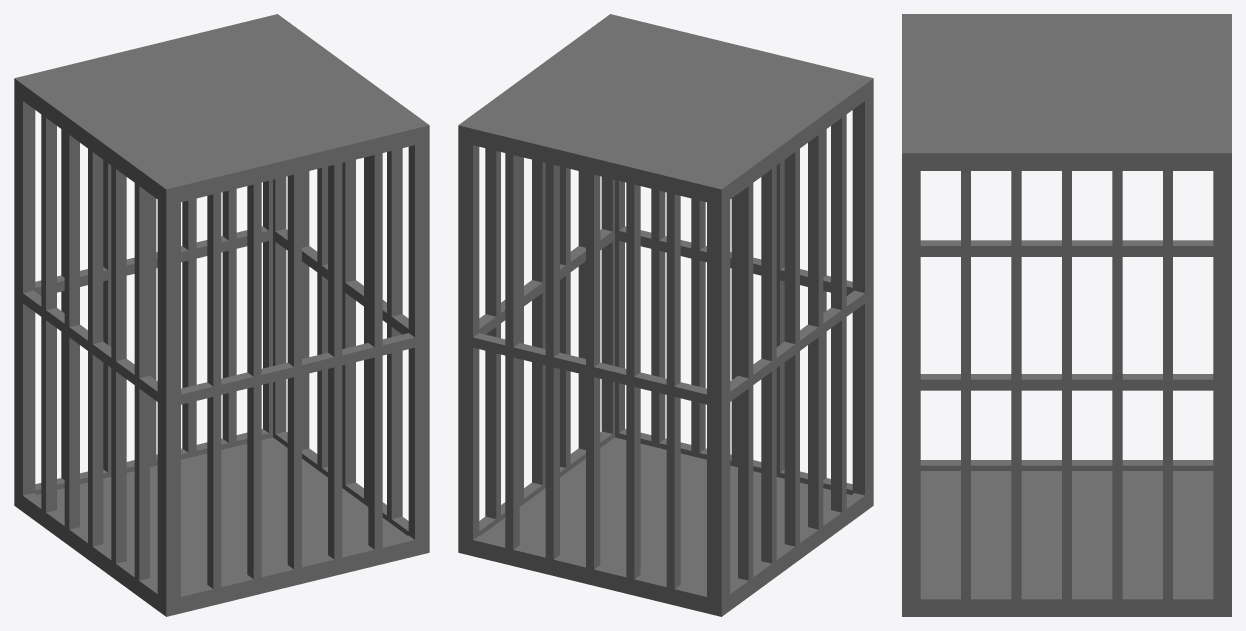
Rendered from LPCP_Cage13.fbx.
3 views of the same model, side by side, from view 1: azimuth 30°, elevation 25°; view 2: azimuth 150°, elevation 25°; view 3: azimuth 270°, elevation 25° (orthographic). The views are drawn at different scales.
Parts seen in each view (by area): view 1: LPCP_Cage13; view 2: LPCP_Cage13; view 3: LPCP_Cage13.
Part boxes in pixels (box(x1,y1,x2,y2)): LPCP_Cage13: box(14, 14, 429, 616); LPCP_Cage13: box(458, 14, 873, 616); LPCP_Cage13: box(902, 14, 1231, 616).
Size of the model in its own units: 3.9 by 6.05 by 3.9.
